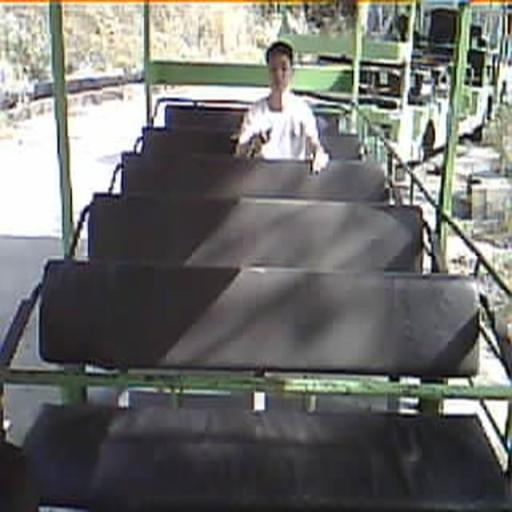persona: (233, 36, 330, 174)
